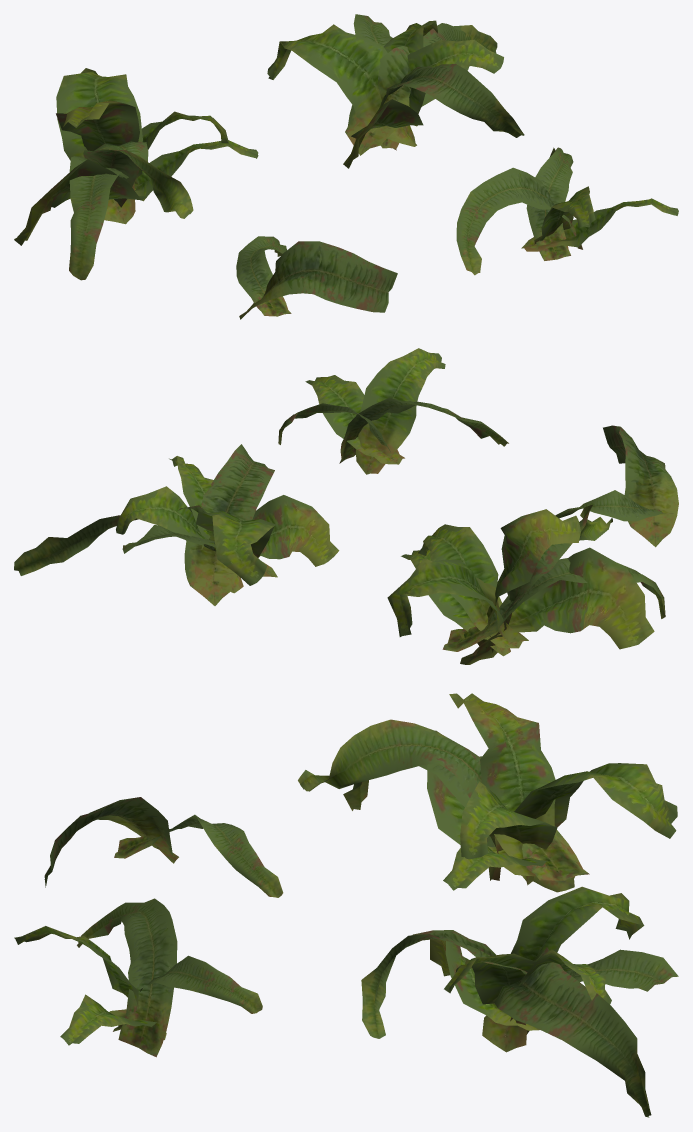
File: fern_02.glb
The picture shows the model from 3 angles, top to bottom: view 1: azimuth 30°, elevation 25°; view 2: azimuth 150°, elevation 25°; view 3: azimuth 270°, elevation 25°; orthographic projection. The views are drawn at different scales.
Visible parts, largest first — view 1: fern_02_c, fern_02_b, fern_02_d, fern_02_a; view 2: fern_02_b, fern_02_c, fern_02_d, fern_02_a; view 3: fern_02_b, fern_02_c, fern_02_d, fern_02_a.
Part boxes in pixels (x1=…): fern_02_c: x1=267, y1=14, x2=524, y2=168; fern_02_b: x1=14, y1=68, x2=258, y2=280; fern_02_d: x1=456, y1=147, x2=678, y2=275; fern_02_a: x1=236, y1=236, x2=397, y2=319; fern_02_b: x1=387, y1=504, x2=665, y2=664; fern_02_c: x1=14, y1=444, x2=339, y2=605; fern_02_d: x1=278, y1=348, x2=508, y2=474; fern_02_a: x1=555, y1=425, x2=678, y2=547; fern_02_b: x1=298, y1=693, x2=677, y2=892; fern_02_c: x1=361, y1=886, x2=678, y2=1117; fern_02_d: x1=14, y1=898, x2=262, y2=1057; fern_02_a: x1=44, y1=797, x2=283, y2=897.
Bounding box in the file's own units: 2.05 × 0.4809 × 1.73.
1 material, 1 textured.
